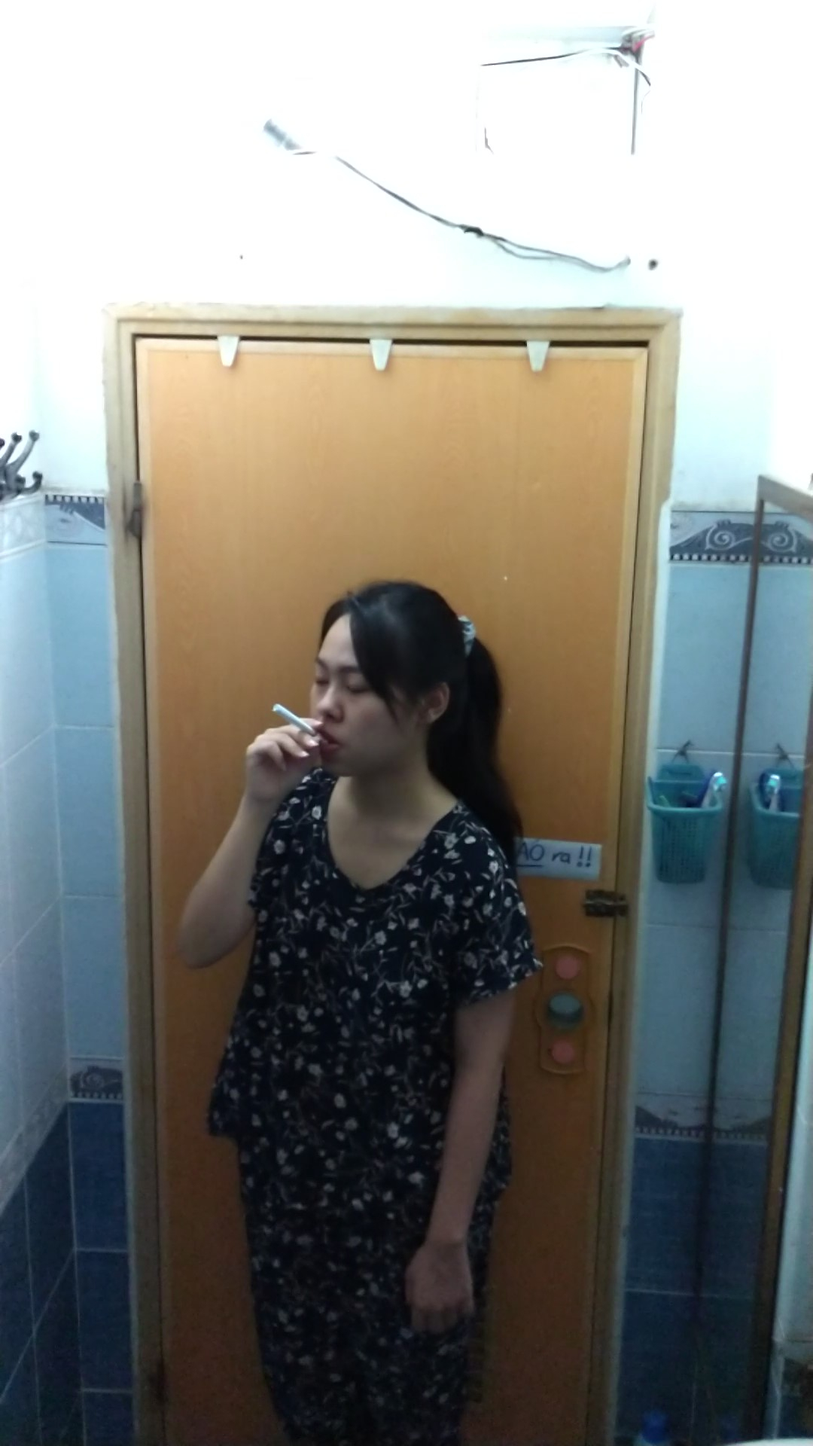cigarette: (269, 701, 312, 735)
person: (176, 570, 554, 1439)
